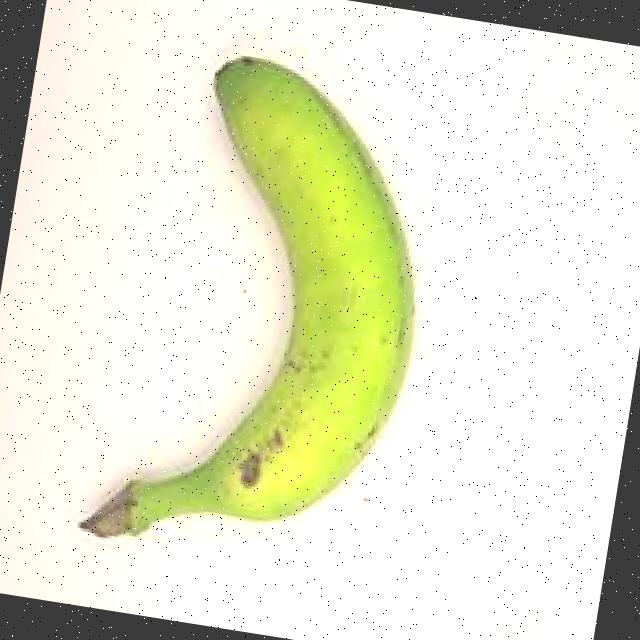Unripe: (41, 0, 480, 597)
